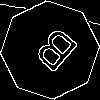B: (25, 25, 81, 82)
